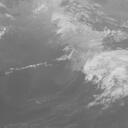cyclone: (39, 36, 108, 97)
